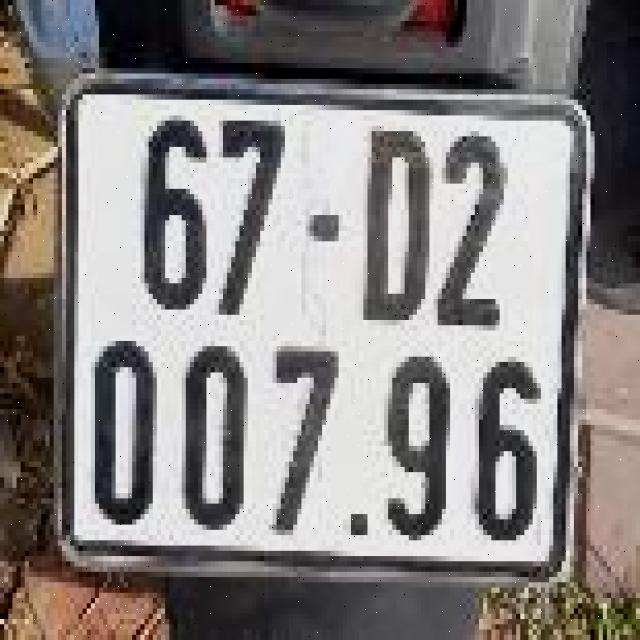0: (172, 330, 266, 546), (81, 312, 167, 533)
2: (442, 128, 516, 349)
6: (462, 346, 558, 556), (144, 94, 207, 320)
7: (270, 317, 349, 538), (212, 113, 282, 317)
9: (378, 323, 452, 548)
D: (357, 120, 436, 336)
